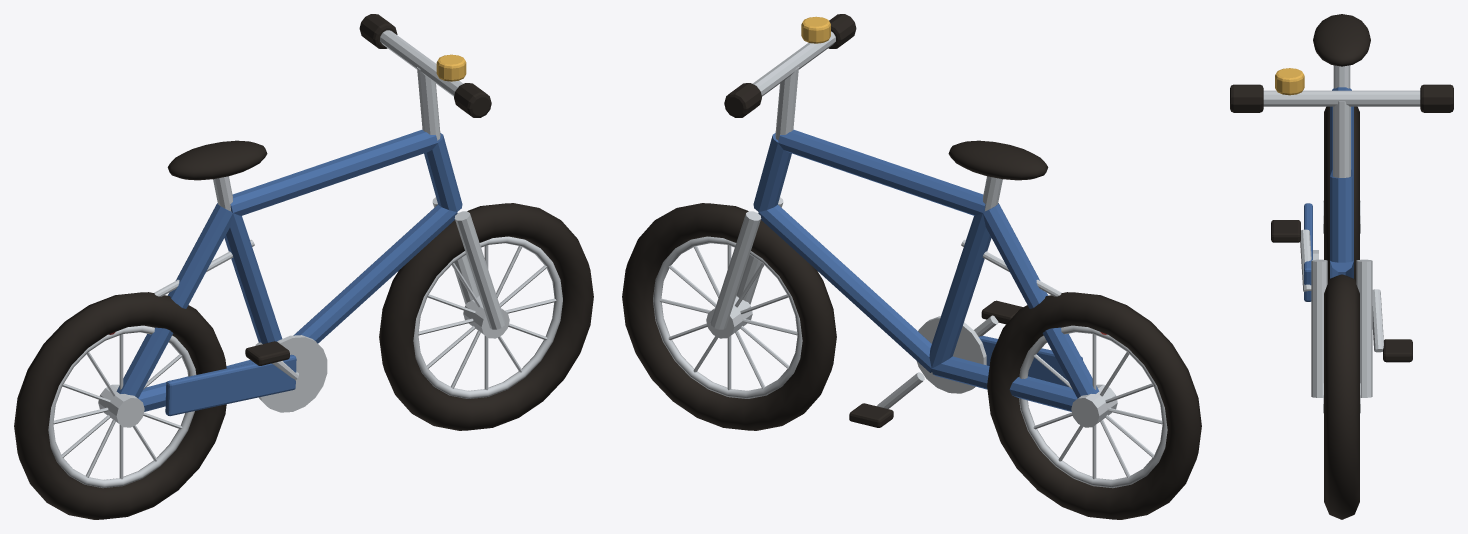
The model's file is hh_cat_child_bike.glb.
3 renders of one model, left to right at view 1: azimuth 30°, elevation 25°; view 2: azimuth 150°, elevation 25°; view 3: azimuth 270°, elevation 25°, orthographic.
Parts seen in each view (by area): view 1: tyre.001, tyre, frame.001, chain_guard, frame, frame.003, rim.001, frame.004, rim, saddle, chainring, fork (+11 smaller); view 2: tyre, tyre.001, frame, frame.001, frame.003, frame.004, rim.001, rim, saddle, frame.002, fork.001, chainring (+11 smaller); view 3: tyre.001, handlebar, saddle, frame.005, tyre, fork, fork.001, stem, grip, grip.001, bell, pedal.001 (+7 smaller).
Part boxes in pixels (box(x1,y1,x2,y2)): tyre.001: box(379, 203, 593, 430); tyre: box(14, 292, 226, 519); frame.001: box(230, 129, 437, 215); chain_guard: box(165, 354, 296, 416); frame: box(293, 205, 457, 343); frame.003: box(116, 203, 232, 398); rim.001: box(413, 236, 562, 398); frame.004: box(224, 213, 282, 343); rim: box(48, 325, 196, 488); saddle: box(167, 140, 267, 180); chainring: box(259, 335, 327, 412); fork: box(454, 211, 505, 329); tyre: box(987, 292, 1201, 519); tyre.001: box(622, 203, 836, 430); frame: box(758, 205, 932, 372); frame.001: box(778, 129, 985, 215); frame.003: box(983, 203, 1099, 398); frame.004: box(929, 213, 991, 368); rim.001: box(653, 236, 802, 398); rim: box(1019, 325, 1167, 488); saddle: box(948, 140, 1048, 180); frame.002: box(932, 356, 1077, 411); fork.001: box(710, 211, 761, 329); chainring: box(916, 316, 986, 393); tyre.001: box(1324, 274, 1359, 519); handlebar: box(1263, 90, 1420, 106); saddle: box(1313, 14, 1370, 66); frame.005: box(1330, 176, 1353, 262); tyre: box(1324, 106, 1359, 282); fork: box(1311, 259, 1327, 397); fork.001: box(1356, 259, 1372, 397); stem: box(1333, 101, 1350, 177); grip: box(1230, 84, 1263, 112); grip.001: box(1420, 84, 1453, 112); bell: box(1275, 68, 1304, 95); pedal.001: box(1383, 339, 1412, 362).
Size of the model in its own units: 0.9 by 0.6 by 0.3.
